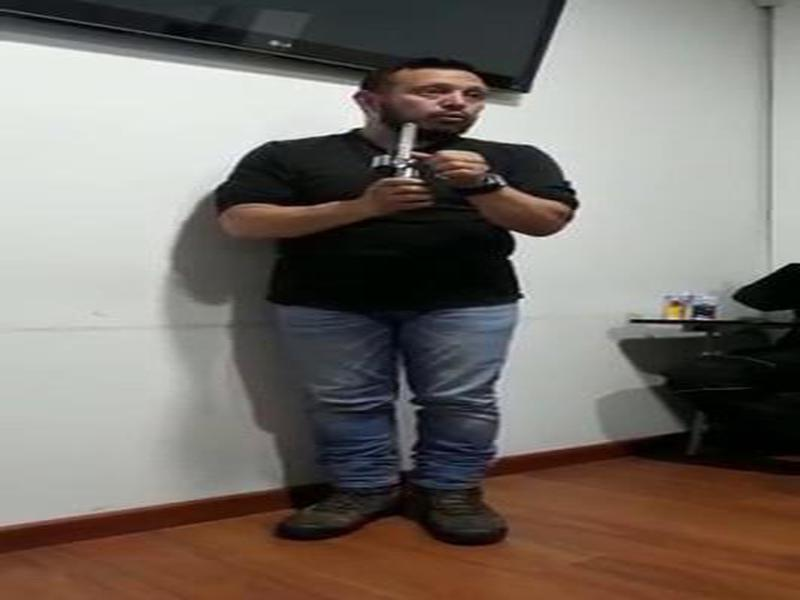Revolver: (362, 109, 455, 216)
